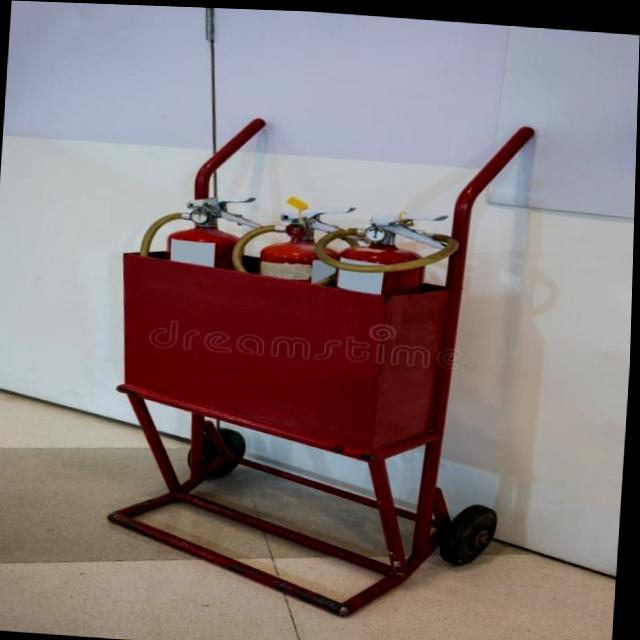FireExtinguisher: (298, 197, 471, 441), (219, 192, 365, 417), (128, 183, 273, 400)
